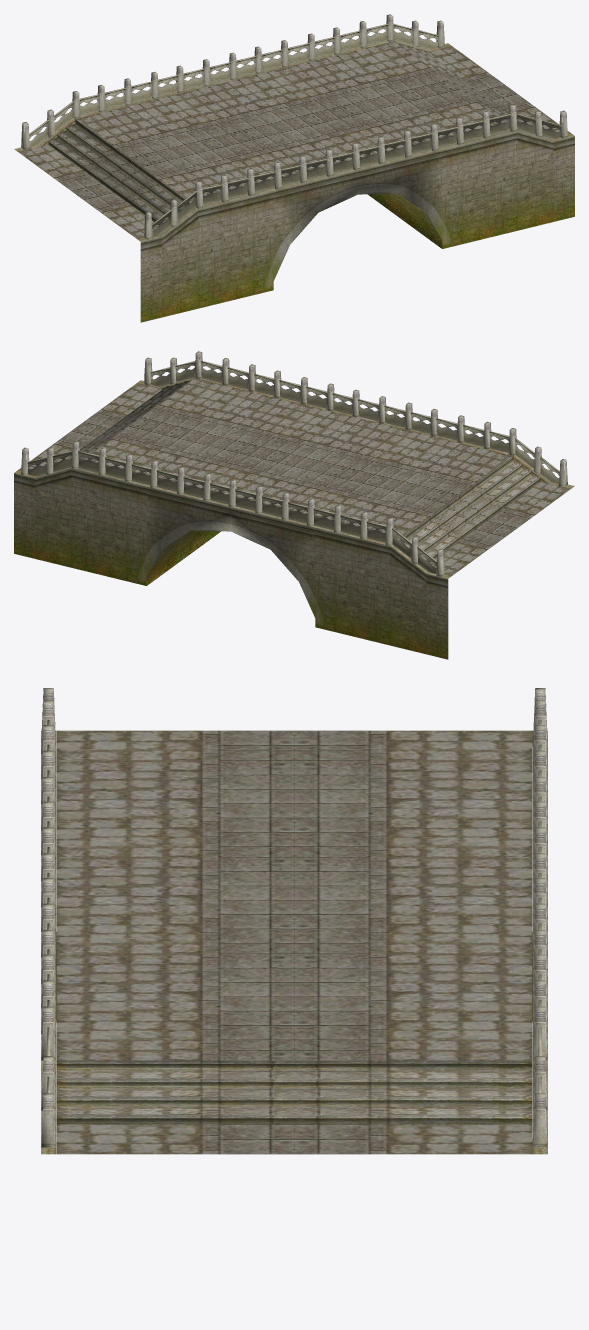
File: cj2_brg.glb
3 renders of one model, top to bottom at view 1: azimuth 30°, elevation 25°; view 2: azimuth 150°, elevation 25°; view 3: azimuth 270°, elevation 25°, orthographic. The views are drawn at different scales.
Parts seen in each view (by area): view 1: CJ2_brg_wall, CJ2_brg_floor, CJ2_brg_wall_al; view 2: CJ2_brg_wall, CJ2_brg_floor, CJ2_brg_wall_al; view 3: CJ2_brg_floor, CJ2_brg_wall, CJ2_brg_wall_al.
Part boxes in pixels (x1,y1,x2,y2): CJ2_brg_wall: [14, 14, 574, 322]; CJ2_brg_floor: [18, 41, 570, 238]; CJ2_brg_wall_al: [29, 24, 561, 236]; CJ2_brg_wall: [14, 351, 574, 659]; CJ2_brg_floor: [18, 378, 570, 575]; CJ2_brg_wall_al: [27, 361, 559, 573]; CJ2_brg_floor: [56, 730, 532, 1154]; CJ2_brg_wall: [41, 688, 547, 1154]; CJ2_brg_wall_al: [47, 720, 541, 1093].
Bounding box in the file's own units: 19.65 × 5.38 × 9.94.
3 materials, 3 textured.
